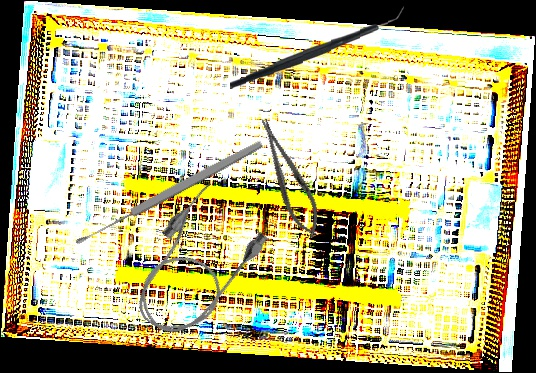Cannula: (114, 177, 276, 351)
Chopper: (227, 4, 407, 90)
Needle Holder: (250, 112, 329, 243)
Surgical Spoon: (72, 137, 266, 249)
